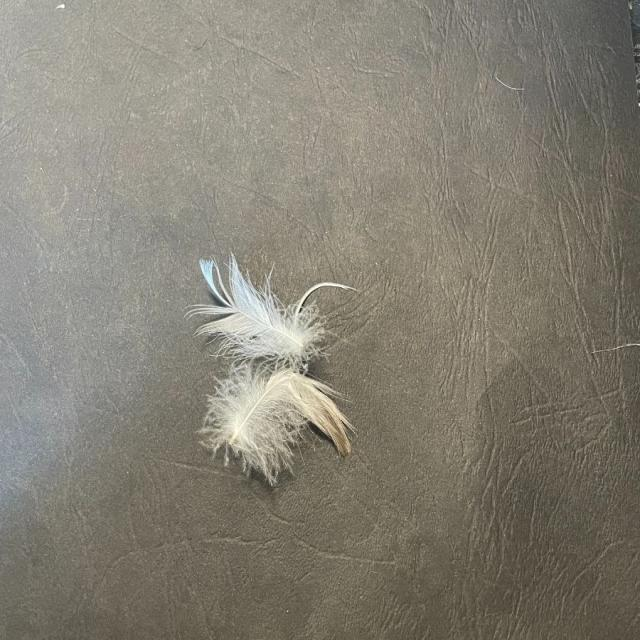feather: (184, 254, 359, 376), (198, 372, 362, 483)
